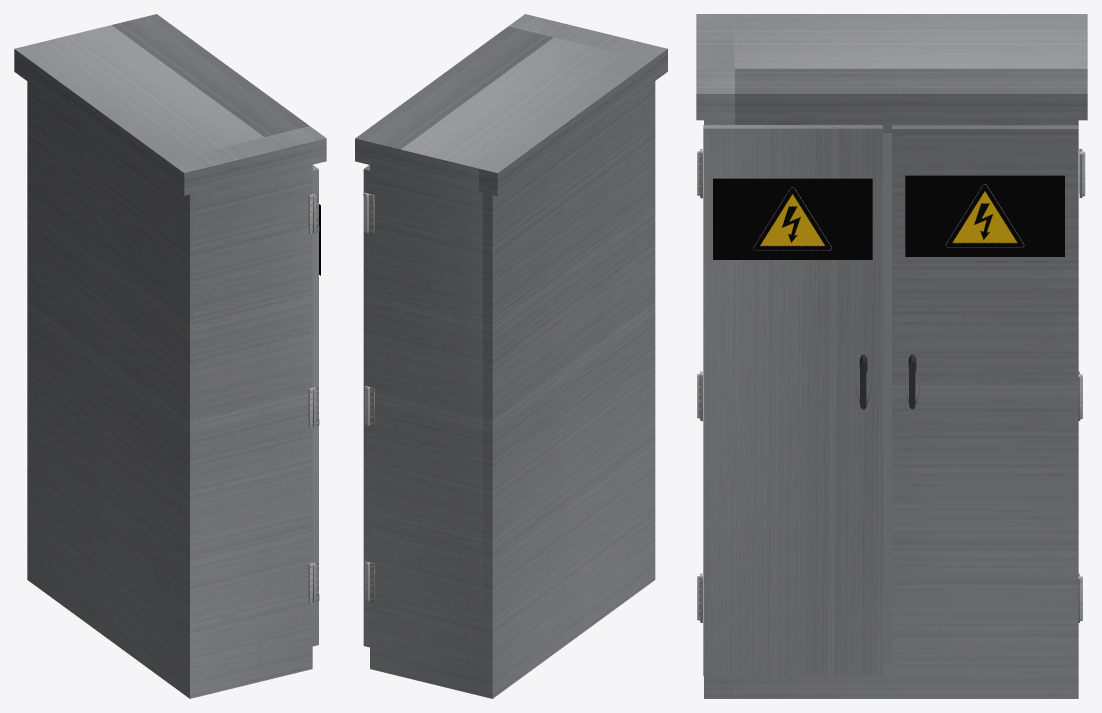
The model's file is Electrical Box .fbx.
3 renders of one model, left to right at view 1: azimuth 30°, elevation 25°; view 2: azimuth 150°, elevation 25°; view 3: azimuth 270°, elevation 25°, orthographic. The views are drawn at different scales.
Parts seen in each view (by area): view 1: Cube, Cube.003; view 2: Cube, Cube.002; view 3: Cube.002, Cube.003, Cube, hazardlogotransparent, hazardlogotransparent.001.
Boxes of the visible parts, x1,y1,x2,y2 form: Cube: (14,14,326,698); Cube.003: (312,165,318,646); Cube: (355,14,667,698); Cube.002: (363,165,369,647); Cube.002: (892,125,1078,677); Cube.003: (703,125,882,676); Cube: (696,14,1087,698); hazardlogotransparent: (905,175,1064,256); hazardlogotransparent.001: (713,178,872,259).
Bounding box in the file's own units: 108 × 360 × 209.
7 materials, 7 textured.
